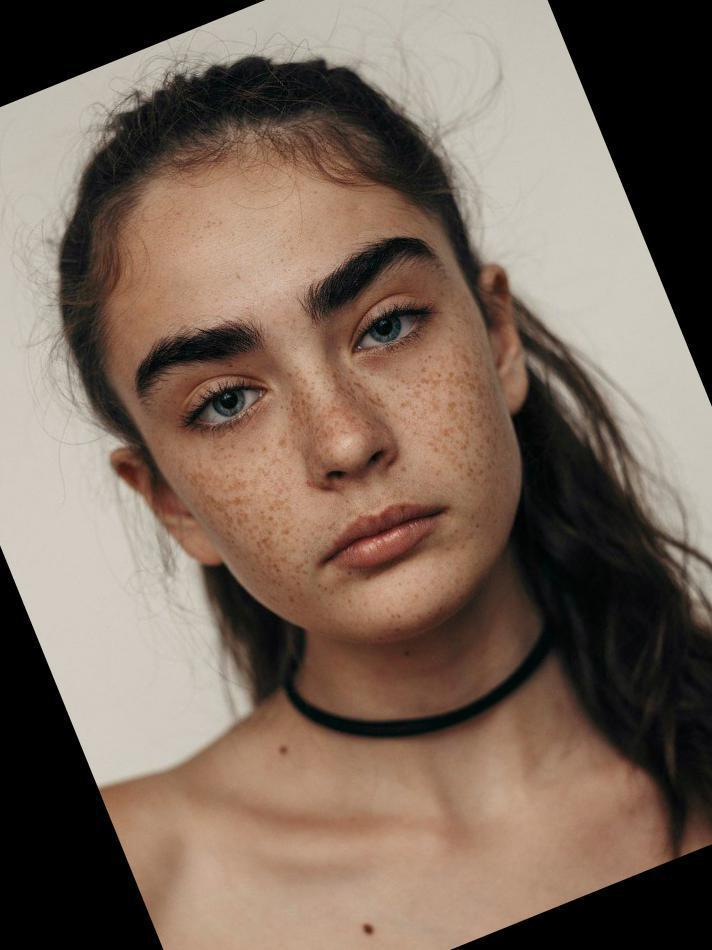Sober: (123, 218, 486, 582)
